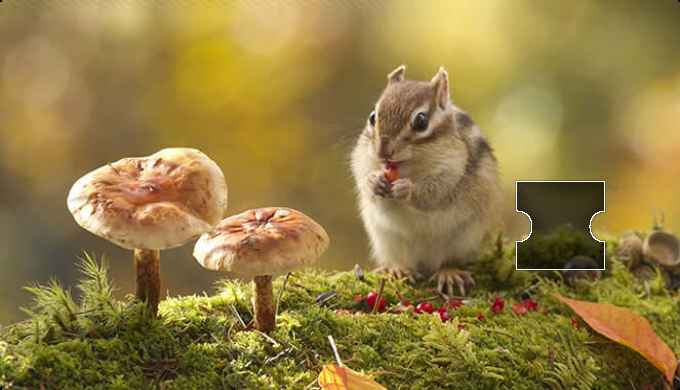gap: (515, 181, 606, 270)
